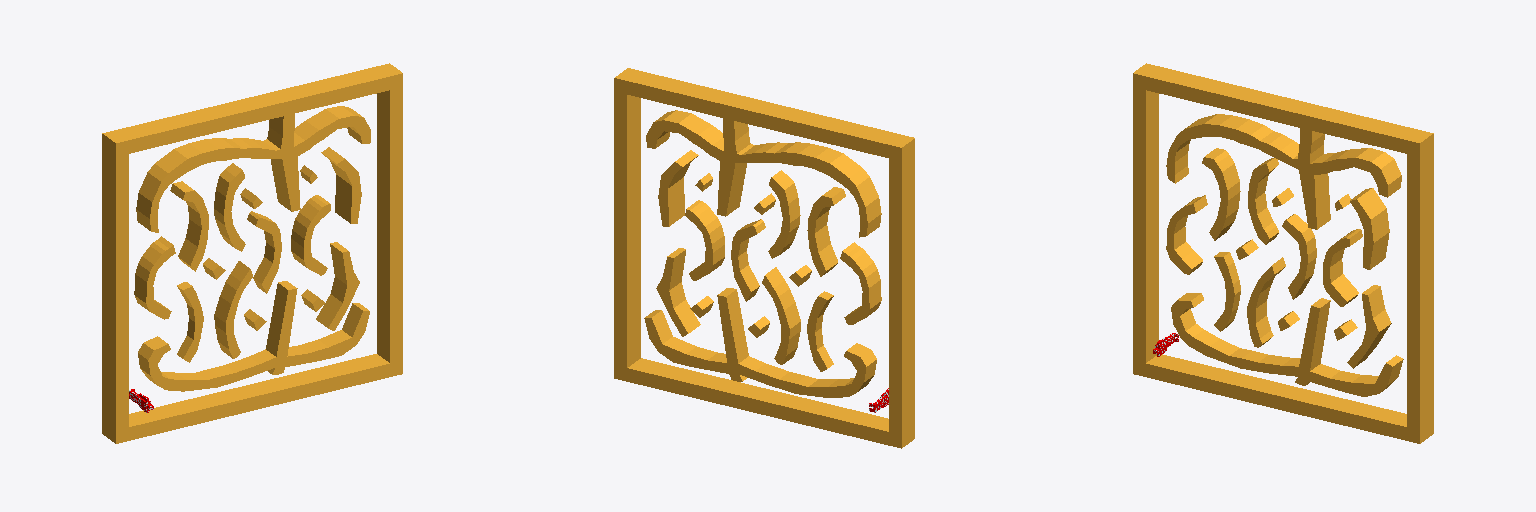
File: Maze_planar_env_blender.obj
The picture shows the model from 3 angles: view 1: azimuth 30°, elevation 25°; view 2: azimuth 150°, elevation 25°; view 3: azimuth 330°, elevation 25°; orthographic projection.
Parts seen in each view (by area): view 1: instance_0.017_ID11.001, instance_0.016_ID3.005, instance_0.023_ID47.003, instance_0.021_ID35.003, instance_0.027_ID71.002, instance_0.018_ID17.001, instance_0.025_ID59.002, instance_0.030_ID89.001, instance_0.028_ID77.001, instance_0.024_ID53.003, instance_0.019_ID23.001; view 2: instance_0.017_ID11.001, instance_0.016_ID3.005, instance_0.023_ID47.003, instance_0.021_ID35.003, instance_0.027_ID71.002, instance_0.018_ID17.001, instance_0.025_ID59.002, instance_0.030_ID89.001, instance_0.028_ID77.001, instance_0.024_ID53.003, instance_0.019_ID23.001; view 3: instance_0.017_ID11.001, instance_0.016_ID3.005, instance_0.030_ID89.001, instance_0.027_ID71.002, instance_0.018_ID17.001, instance_0.025_ID59.002, instance_0.028_ID77.001, instance_0.023_ID47.003, instance_0.021_ID35.003, instance_0.024_ID53.003, instance_0.019_ID23.001.
Part boxes in pixels (x1,y1,x2,y2): instance_0.017_ID11.001: (102, 63, 402, 443); instance_0.016_ID3.005: (138, 281, 369, 391); instance_0.023_ID47.003: (316, 242, 359, 330); instance_0.021_ID35.003: (214, 261, 252, 358); instance_0.027_ID71.002: (170, 181, 208, 271); instance_0.018_ID17.001: (134, 236, 175, 319); instance_0.025_ID59.002: (291, 195, 330, 275); instance_0.030_ID89.001: (321, 147, 361, 223); instance_0.028_ID77.001: (214, 163, 245, 251); instance_0.024_ID53.003: (247, 211, 281, 293); instance_0.019_ID23.001: (177, 282, 203, 362); instance_0.017_ID11.001: (614, 68, 914, 448); instance_0.016_ID3.005: (644, 288, 876, 397); instance_0.023_ID47.003: (656, 248, 700, 336); instance_0.021_ID35.003: (762, 267, 800, 364); instance_0.027_ID71.002: (807, 187, 845, 276); instance_0.018_ID17.001: (840, 242, 881, 324); instance_0.025_ID59.002: (685, 200, 724, 280); instance_0.030_ID89.001: (658, 150, 698, 226); instance_0.028_ID77.001: (768, 170, 800, 258); instance_0.024_ID53.003: (731, 219, 765, 301); instance_0.019_ID23.001: (807, 291, 833, 371); instance_0.017_ID11.001: (1133, 63, 1433, 443); instance_0.016_ID3.005: (1171, 293, 1403, 396); instance_0.030_ID89.001: (1350, 188, 1389, 269); instance_0.027_ID71.002: (1202, 148, 1240, 240); instance_0.018_ID17.001: (1166, 195, 1207, 274); instance_0.025_ID59.002: (1323, 229, 1362, 306); instance_0.028_ID77.001: (1248, 158, 1278, 244); instance_0.023_ID47.003: (1347, 285, 1391, 368); instance_0.021_ID35.003: (1247, 257, 1285, 347); instance_0.024_ID53.003: (1282, 214, 1316, 299); instance_0.019_ID23.001: (1214, 252, 1240, 331).
Bounding box in the file's own units: 110 × 110 × 13.6.